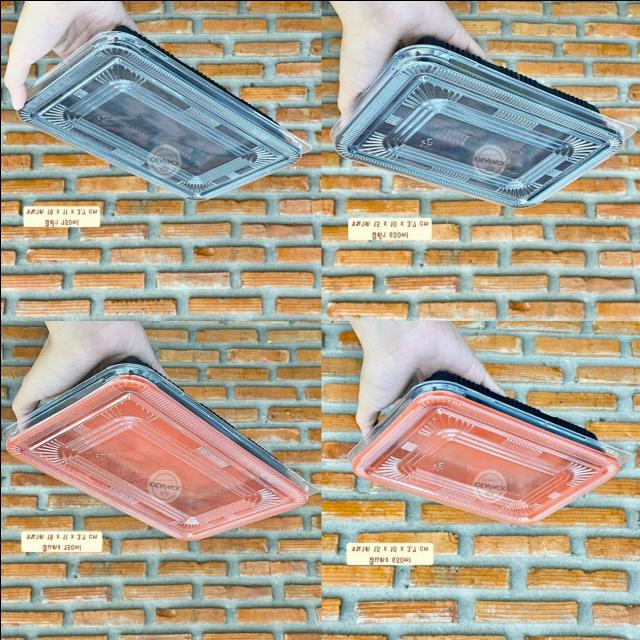plastik: (2, 361, 315, 538), (331, 38, 634, 207), (17, 25, 309, 199), (347, 371, 629, 523)
